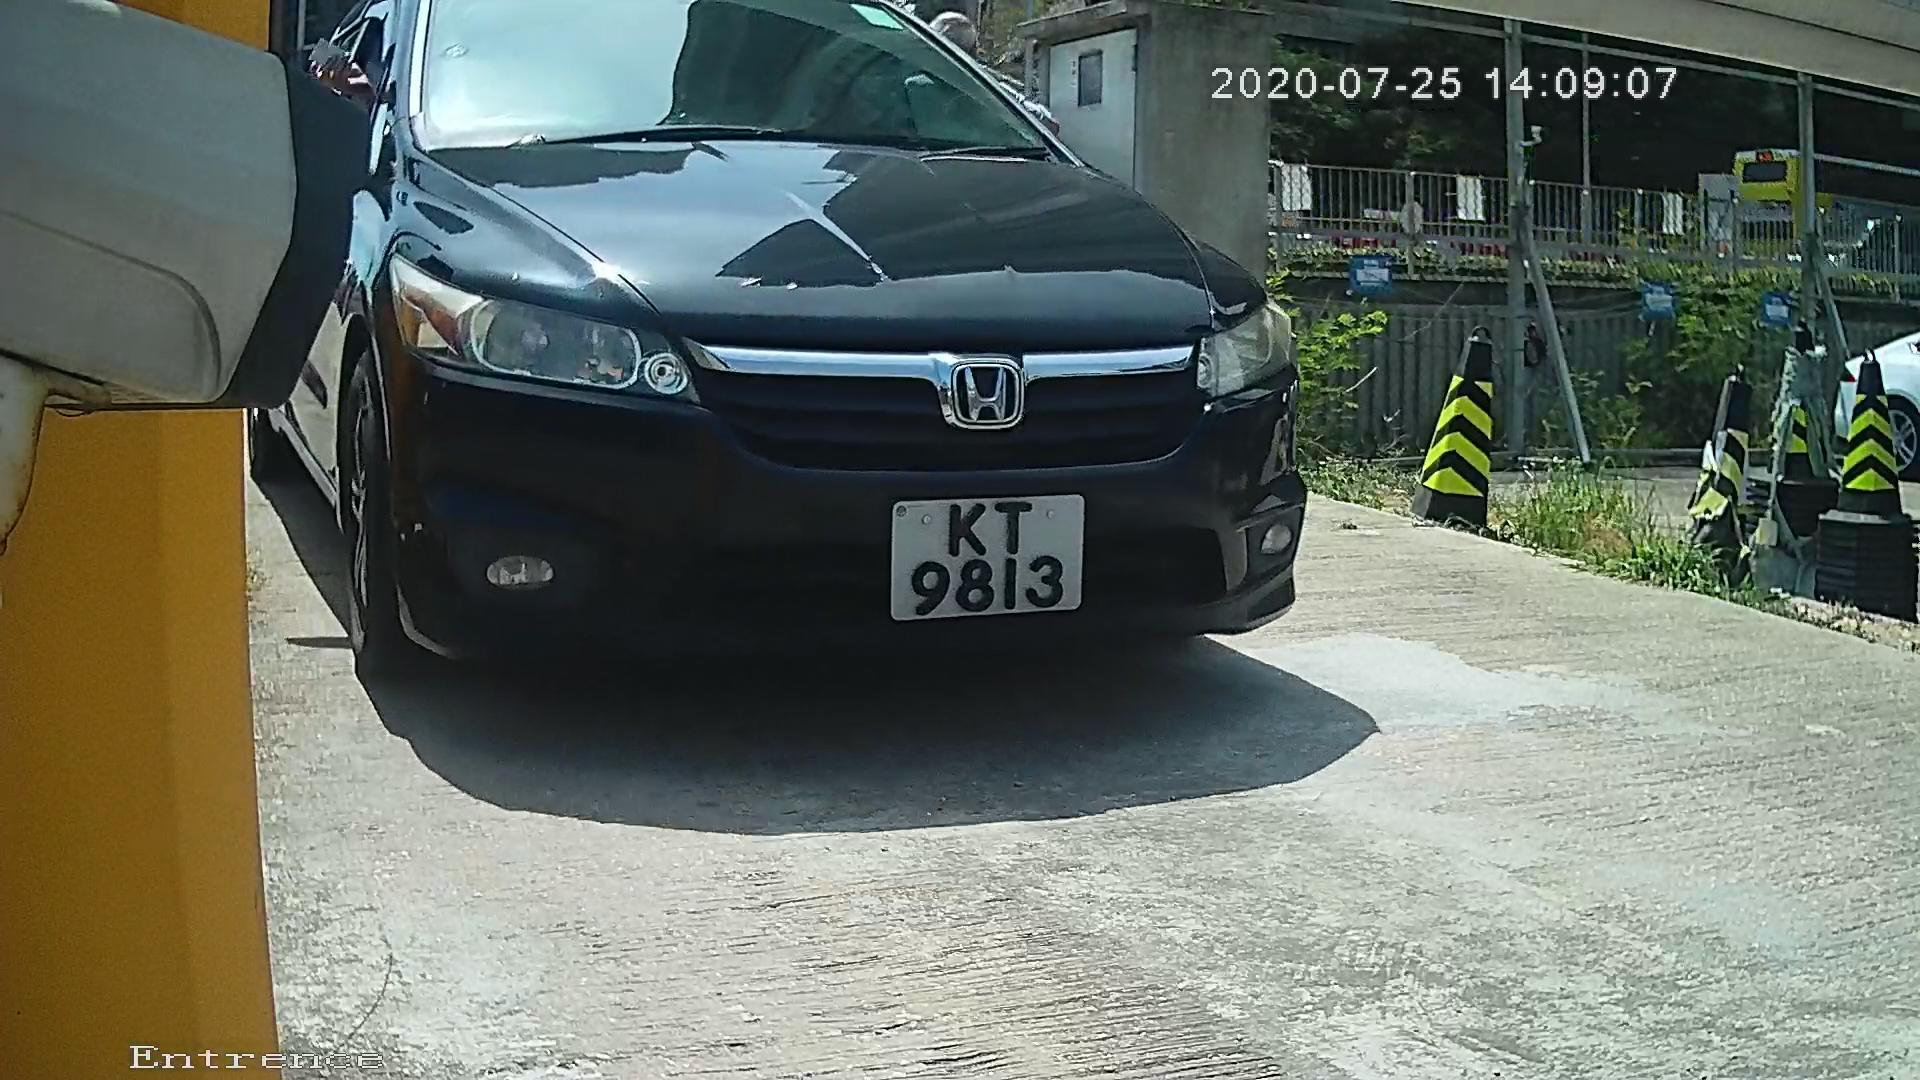Car: (95, 1, 1406, 772)
License Plate: (858, 473, 1098, 642)
